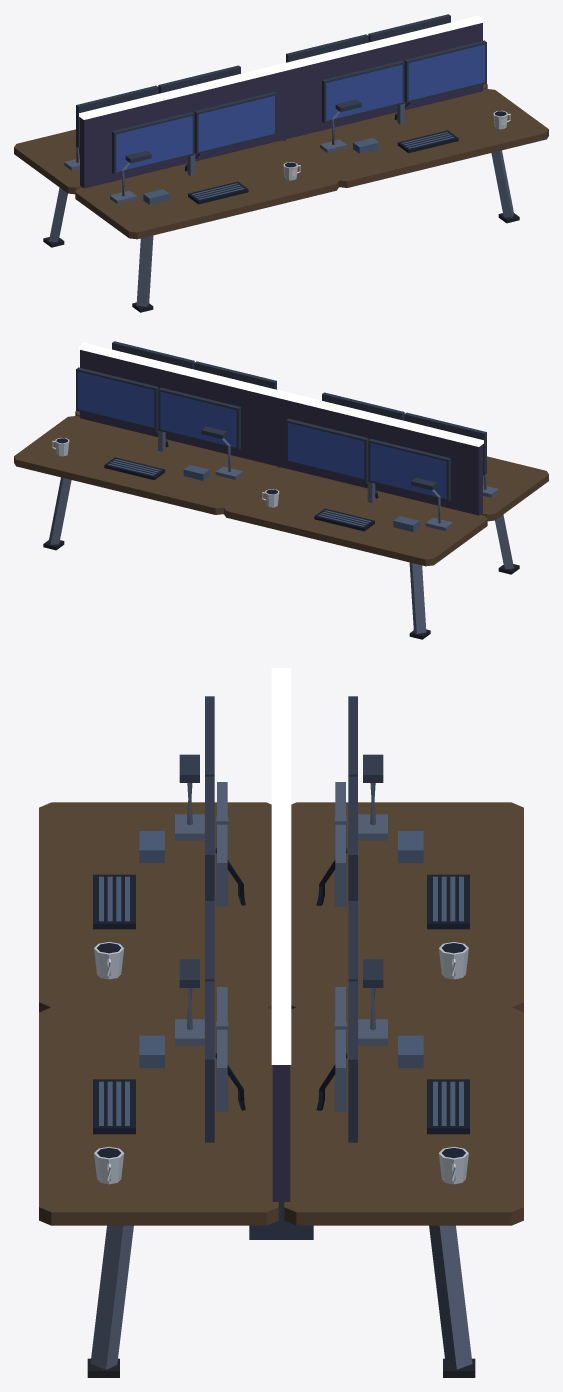
The model's file is off_desk_pod.glb.
3 views of the same model, one above another, from view 1: azimuth 30°, elevation 25°; view 2: azimuth 150°, elevation 25°; view 3: azimuth 270°, elevation 25° (orthographic). The views are drawn at different scales.
Parts seen in each view (by area): view 1: work_surface, acoustic_divider, display, print.002, print.001, divider_cap, cantilever, coffee, dock, foot, ceramic_cup; view 2: work_surface, acoustic_divider, display, print.002, print.001, divider_cap, cantilever, coffee, dock, ceramic_cup, foot; view 3: work_surface, cantilever, display, coffee, divider_cap, dock, ceramic_cup, acoustic_divider, foot.
Part boxes in pixels (left/top/right/bottom): work_surface: left=14, top=83, right=548, bottom=239; acoustic_divider: left=80, top=23, right=482, bottom=188; display: left=76, top=14, right=486, bottom=174; print.002: left=198, top=44, right=484, bottom=151; print.001: left=116, top=64, right=402, bottom=172; divider_cap: left=79, top=15, right=483, bottom=119; cantilever: left=49, top=102, right=513, bottom=306; coffee: left=184, top=102, right=506, bottom=204; dock: left=79, top=132, right=454, bottom=204; foot: left=43, top=213, right=519, bottom=312; ceramic_cup: left=283, top=110, right=510, bottom=180; work_surface: left=14, top=410, right=548, bottom=566; acoustic_divider: left=80, top=350, right=482, bottom=515; display: left=76, top=341, right=486, bottom=501; print.002: left=78, top=371, right=364, bottom=478; print.001: left=160, top=391, right=446, bottom=499; divider_cap: left=79, top=342, right=483, bottom=446; cantilever: left=49, top=429, right=513, bottom=633; coffee: left=56, top=429, right=378, bottom=531; dock: left=108, top=459, right=483, bottom=531; ceramic_cup: left=52, top=437, right=279, bottom=507; foot: left=43, top=540, right=519, bottom=639; work_surface: left=39, top=802, right=523, bottom=1225; cantilever: left=90, top=782, right=472, bottom=1369; display: left=179, top=696, right=383, bottom=1239; coffee: left=93, top=848, right=469, bottom=1158; divider_cap: left=271, top=668, right=291, bottom=1064; dock: left=99, top=831, right=463, bottom=1125; ceramic_cup: left=94, top=942, right=468, bottom=1184; acoustic_divider: left=272, top=1065, right=290, bottom=1201; foot: left=87, top=1358, right=475, bottom=1377.
Size of the model in its own units: 3.6 by 1.35 by 1.8.
